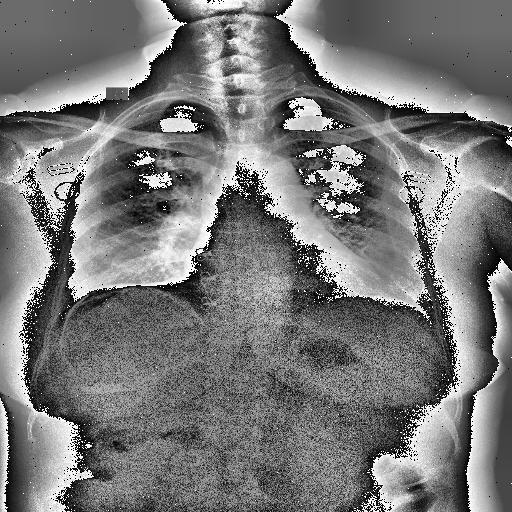0- Aortic enlargement: (226, 152, 298, 208), (235, 152, 307, 204), (243, 154, 295, 203)
3- Cardiomegaly: (181, 260, 395, 314), (184, 254, 386, 296)
9- Other lesion: (43, 282, 204, 386)
